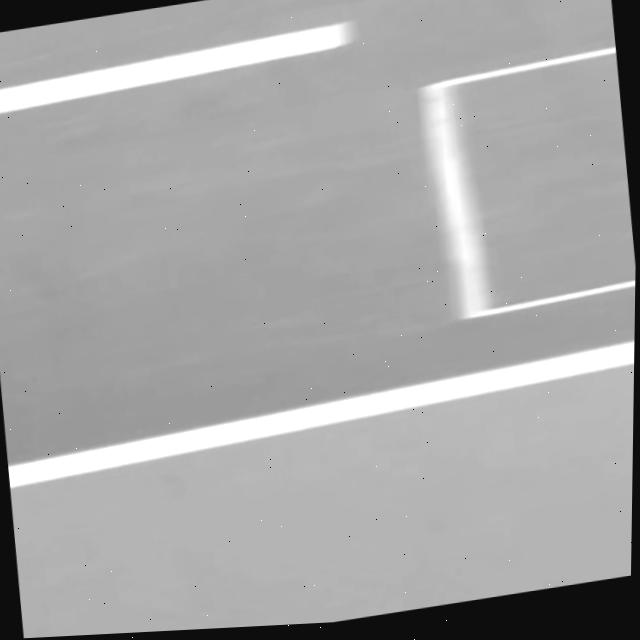center: (0, 24, 351, 114)
left: (7, 341, 634, 488)
